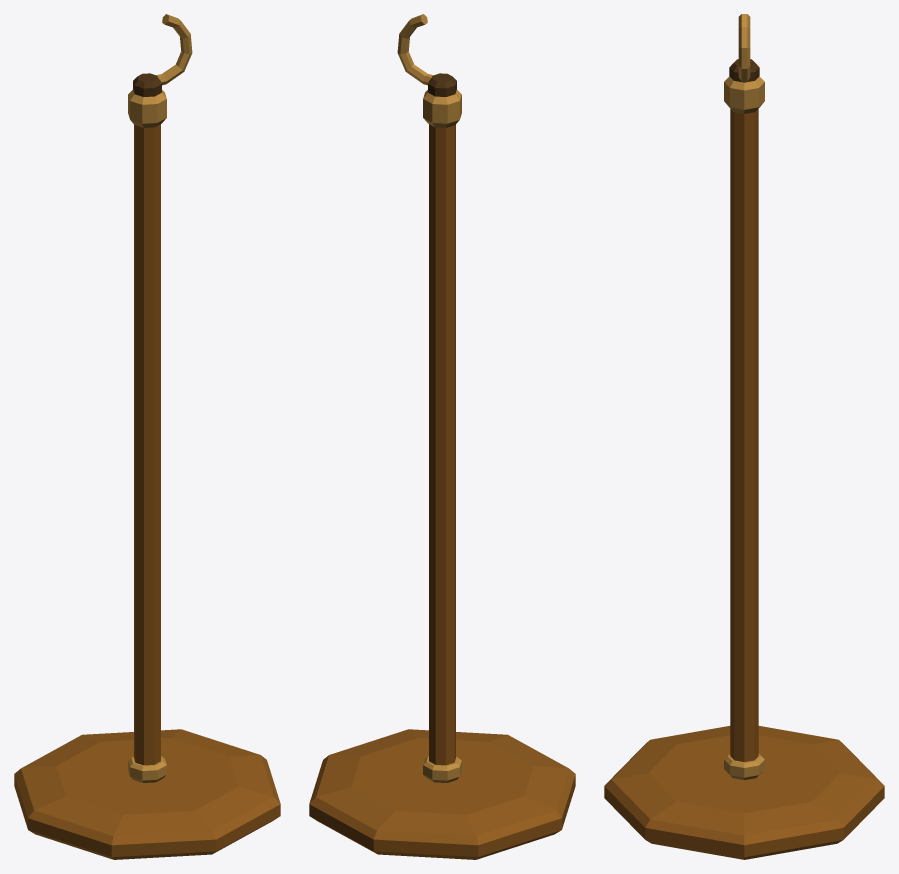
File: 0-20261016-1900-ev003-r01-lobby-stanchion.fbx
3 renders of one model, left to right at view 1: azimuth 30°, elevation 25°; view 2: azimuth 150°, elevation 25°; view 3: azimuth 270°, elevation 25°, orthographic.
Visible parts, largest first — view 1: SW_Lobby_Stanchion; view 2: SW_Lobby_Stanchion; view 3: SW_Lobby_Stanchion.
Part boxes in pixels (x1,y1,x2,y2): SW_Lobby_Stanchion: [14, 14, 280, 859]; SW_Lobby_Stanchion: [309, 14, 575, 859]; SW_Lobby_Stanchion: [604, 14, 884, 859].
Bounding box in the file's own units: 31.6 × 99.89 × 31.6.
